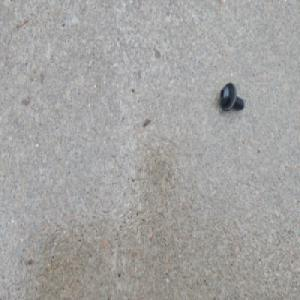BoltWasher: (218, 82, 245, 114)
